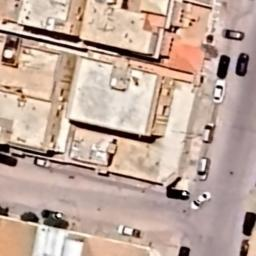SUV: (201, 118, 221, 146)
sedan: (115, 224, 147, 242), (238, 206, 256, 237), (212, 80, 232, 106), (193, 154, 210, 184), (192, 192, 215, 214), (219, 24, 247, 41), (216, 52, 233, 77), (236, 50, 250, 80), (32, 156, 53, 170)
unknown: (176, 244, 194, 256)
